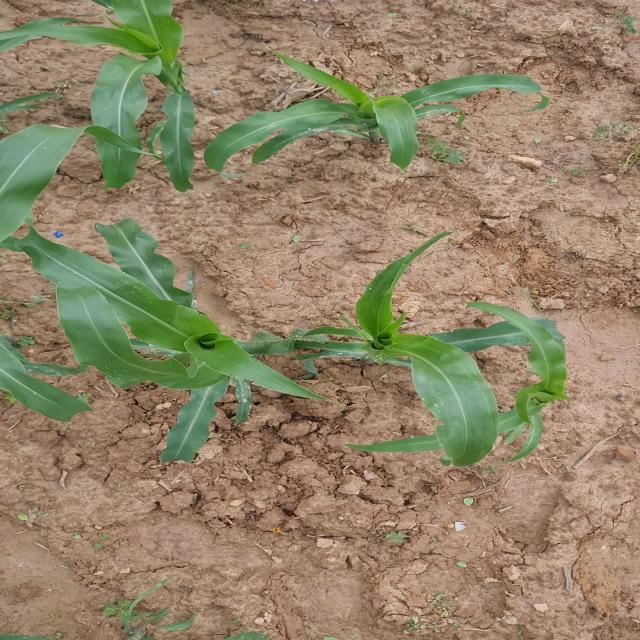maize: (35, 227, 575, 460), (0, 23, 477, 194)
weed: (71, 585, 480, 640)
